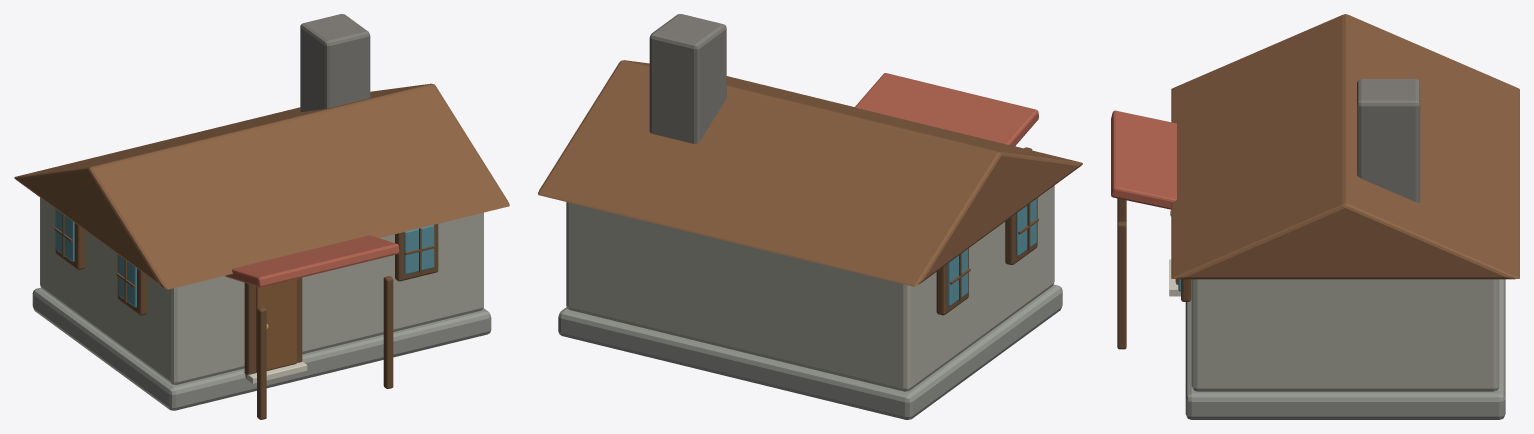
The model's file is temperate-workshop-0.glb.
3 views of the same model, side by side, from view 1: azimuth 30°, elevation 25°; view 2: azimuth 150°, elevation 25°; view 3: azimuth 270°, elevation 25° (orthographic). The views are drawn at different scales.
Parts seen in each view (by area): view 1: Wood shingles, Fieldstone, Foundation stone, Dark beams, Soot stone, Clay tiles, Door oak, Blue glass, Cut limestone; view 2: Wood shingles, Fieldstone, Foundation stone, Soot stone, Clay tiles, Dark beams, Blue glass; view 3: Wood shingles, Fieldstone, Foundation stone, Soot stone, Clay tiles, Dark beams.
Boxes of the visible parts, <box> form: Wood shingles: <box>14,83,509,289</box>; Fieldstone: <box>40,197,483,384</box>; Foundation stone: <box>32,287,491,410</box>; Dark beams: <box>54,209,438,419</box>; Soot stone: <box>300,14,370,112</box>; Clay tiles: <box>225,235,399,287</box>; Door oak: <box>256,279,296,372</box>; Blue glass: <box>56,209,434,307</box>; Cut limestone: <box>243,361,307,384</box>; Wood shingles: <box>538,60,1082,286</box>; Fieldstone: <box>566,185,1054,391</box>; Foundation stone: <box>558,284,1062,419</box>; Soot stone: <box>649,14,726,143</box>; Clay tiles: <box>855,73,1038,145</box>; Dark beams: <box>936,147,1038,315</box>; Blue glass: <box>948,199,1036,306</box>; Wood shingles: <box>1171,14,1519,279</box>; Fieldstone: <box>1191,279,1499,391</box>; Foundation stone: <box>1185,279,1505,419</box>; Soot stone: <box>1357,79,1420,202</box>; Clay tiles: <box>1111,110,1176,209</box>; Dark beams: <box>1117,198,1191,349</box>.
Bounding box in the file's own units: 4.44 × 3.17 × 3.99.
